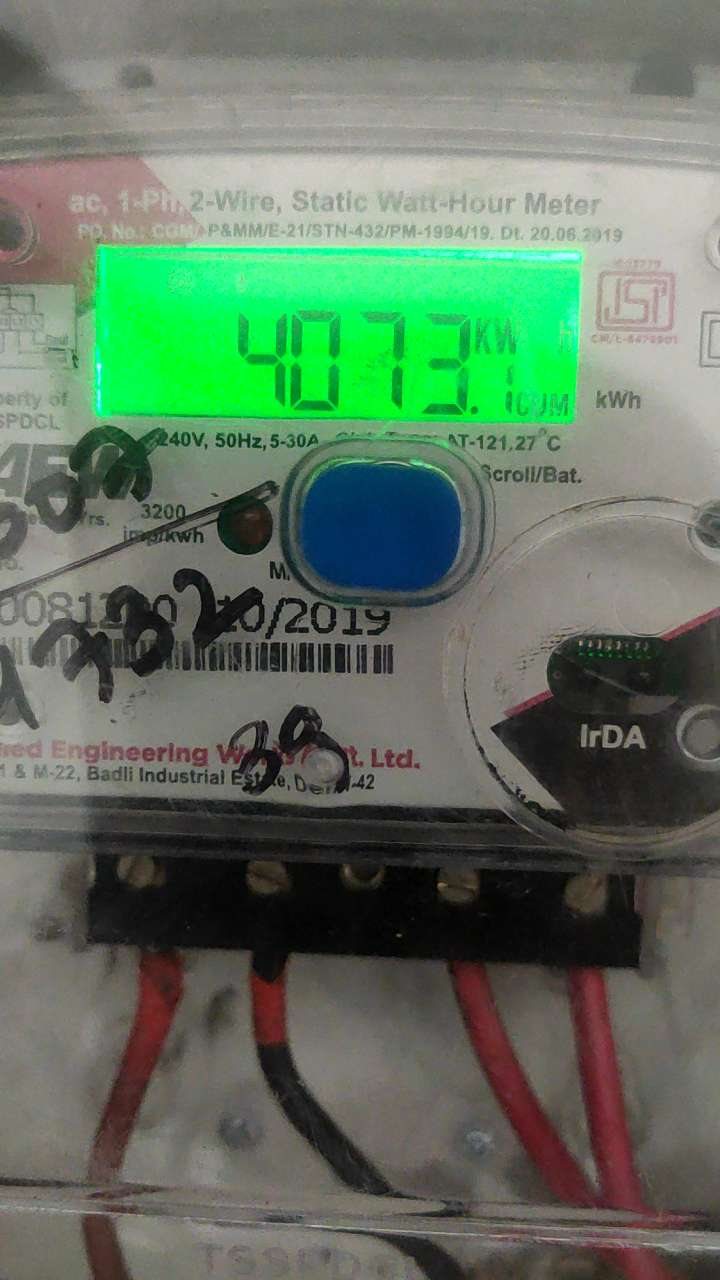meter_serial_number: (1, 583, 185, 632)
